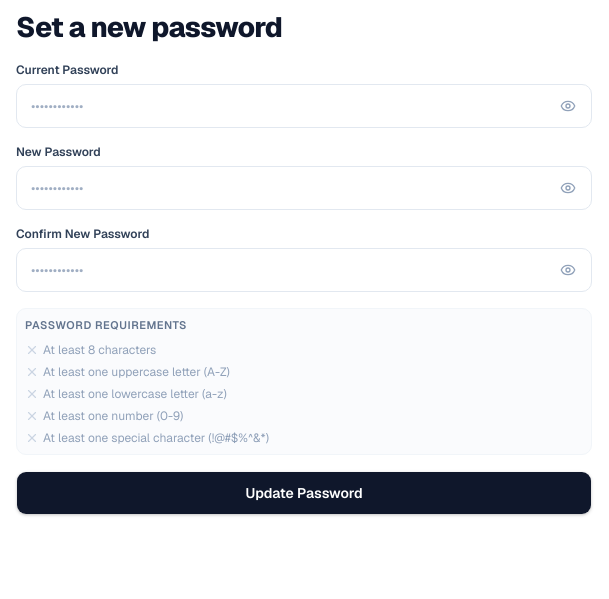
ChangePasswordForm › shows validation errors when submitted empty
Click the button "Update Password".
click(304, 493)  # box [16, 471, 592, 515]
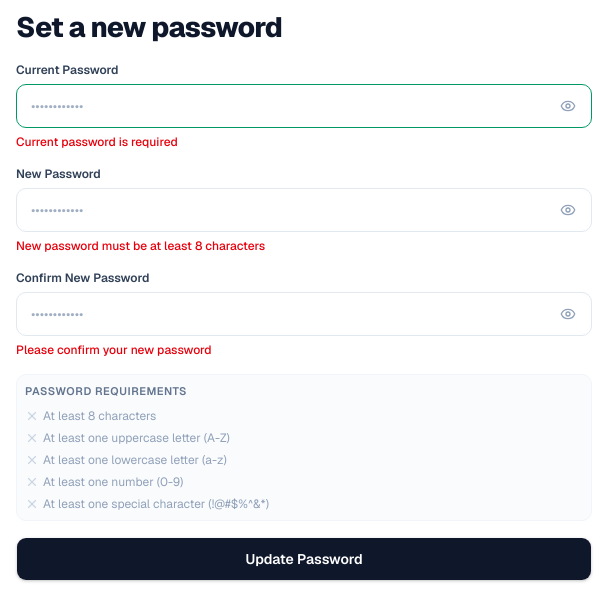
Expected: the text "Current password is required" is shown, [16, 134, 178, 150]
